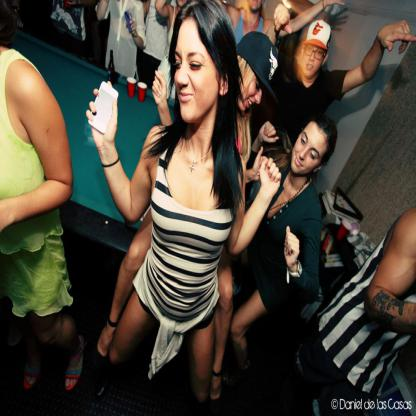face: (175, 23, 219, 119), (292, 123, 326, 175), (242, 67, 271, 115), (303, 35, 326, 78)
